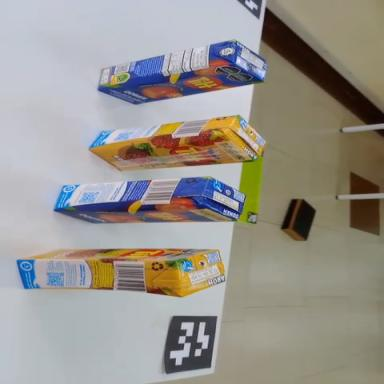HIT-MANGO: (94, 35, 269, 111), (54, 177, 245, 224)
HIT-MORA: (88, 114, 266, 174), (19, 247, 225, 298)
cara_F: (97, 59, 264, 111), (89, 130, 253, 175), (53, 203, 236, 224), (18, 249, 217, 261)
